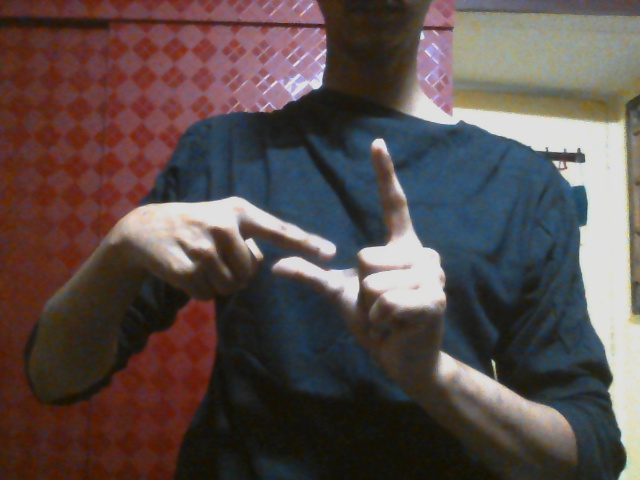J: (116, 137, 461, 353)
